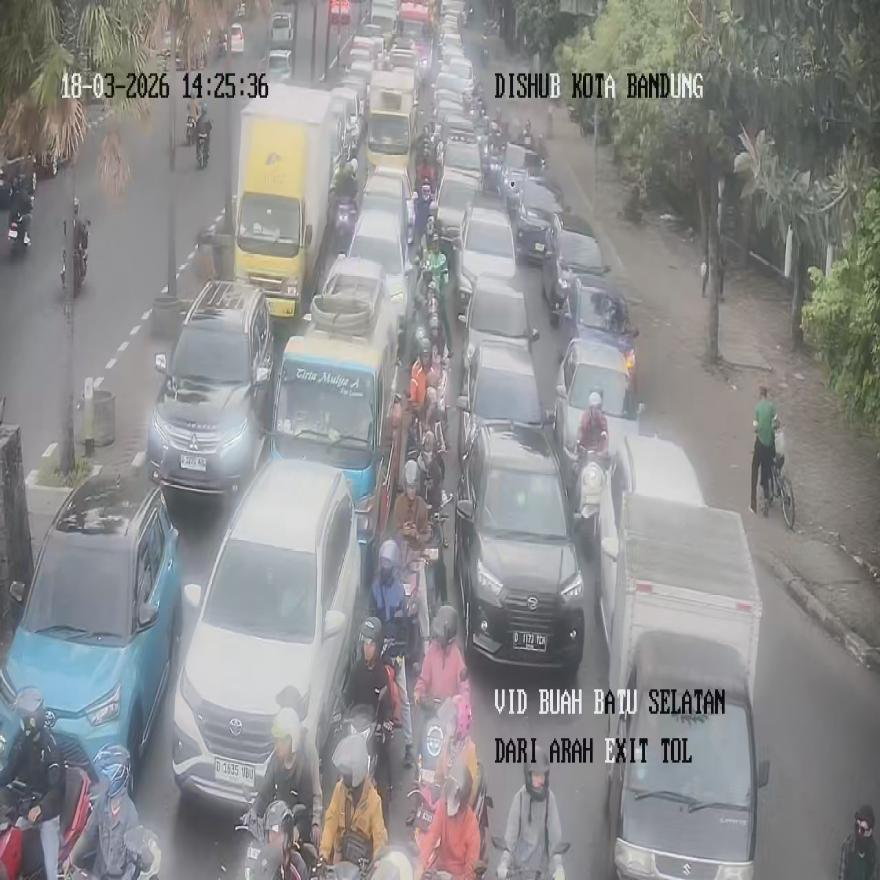Mobil: (170, 457, 360, 812), (598, 491, 769, 876), (0, 470, 181, 802), (455, 418, 586, 671), (146, 278, 273, 498), (555, 335, 643, 495)
Motor: (410, 695, 493, 879), (63, 744, 149, 880), (0, 764, 91, 880), (328, 703, 394, 831), (235, 799, 307, 880), (63, 825, 160, 880), (491, 835, 571, 880), (571, 446, 605, 549), (838, 805, 877, 880), (61, 211, 88, 297), (333, 192, 358, 255), (8, 207, 32, 254), (195, 130, 210, 168)
Truk menengah: (232, 84, 337, 319)
Truk ringan: (269, 254, 401, 586)
